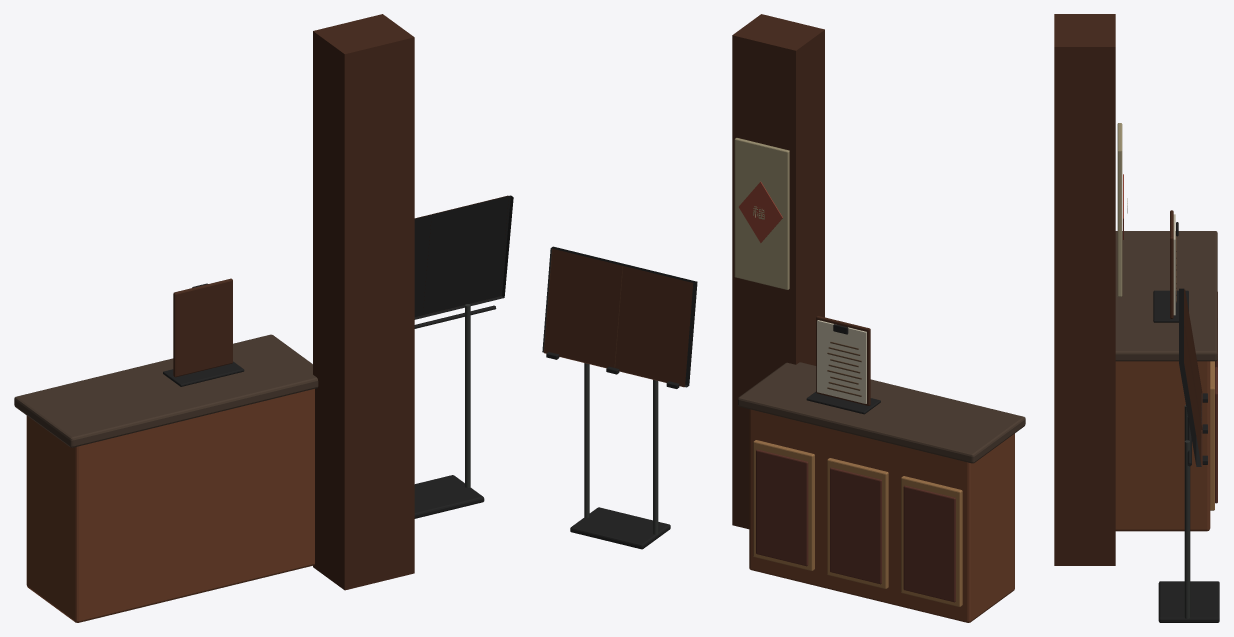
The model's file is host.glb.
3 views of the same model, side by side, from view 1: azimuth 30°, elevation 25°; view 2: azimuth 150°, elevation 25°; view 3: azimuth 270°, elevation 25° (orthographic). The views are drawn at different scales.
Parts seen in each view (by area): view 1: FP218_host; view 2: FP218_host; view 3: FP218_host.
Part boxes in pixels (box(x1,y1,x2,y2)): FP218_host: box(14, 14, 513, 622); FP218_host: box(542, 14, 1025, 622); FP218_host: box(1054, 14, 1219, 622).
Bounding box in the file's own units: 2.62 × 2.79 × 0.8066.
